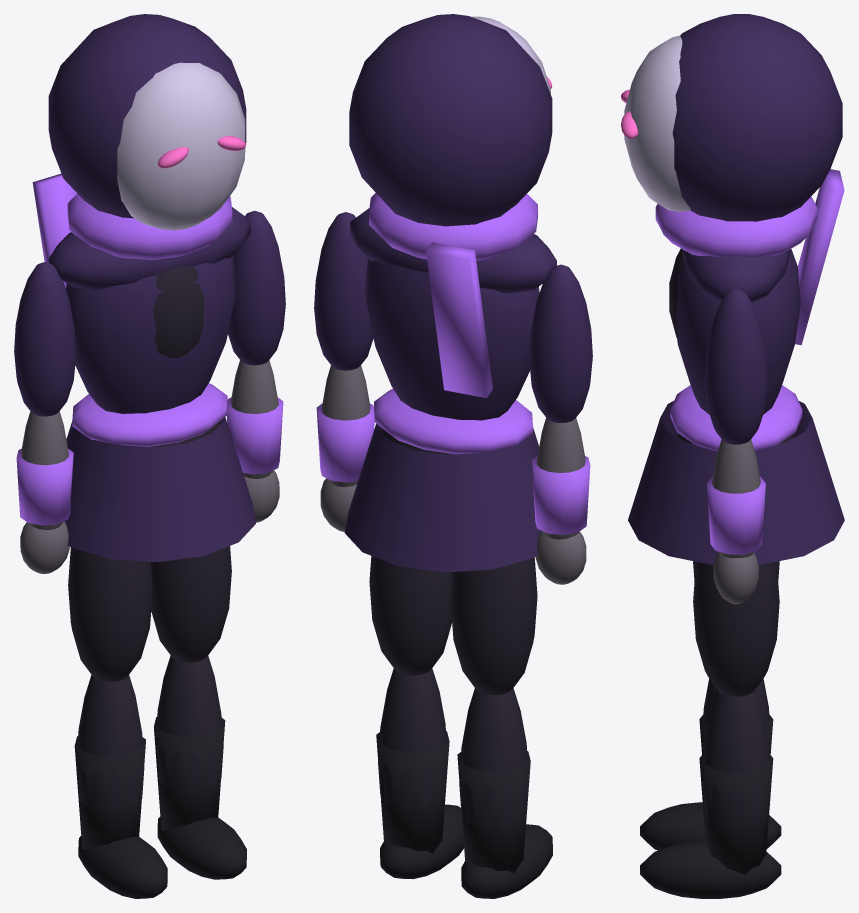
Rendered from ashen_caster.glb.
The picture shows the model from 3 angles, left to right: view 1: azimuth 30°, elevation 25°; view 2: azimuth 150°, elevation 25°; view 3: azimuth 270°, elevation 25°; orthographic projection. The views are drawn at different scales.
Parts seen in each view (by area): view 1: Head, Torso, Hips, LowerLegR, LowerLegL, UpperLegR, UpperArmR, LowerArmR, UpperLegL, UpperArmL, LowerArmL; view 2: Head, Torso, Hips, LowerLegR, LowerLegL, UpperLegR, UpperArmR, LowerArmR, UpperLegL, UpperArmL, LowerArmL; view 3: Head, Hips, Torso, LowerLegL, UpperLegL, UpperArmL, LowerArmL, LowerLegR.
Part boxes in pixels (<box>): Head: <box>48,14,246,230</box>; Torso: <box>32,173,250,413</box>; Hips: <box>64,383,255,561</box>; LowerLegR: <box>74,675,167,898</box>; LowerLegL: <box>154,655,246,879</box>; UpperLegR: <box>68,547,152,681</box>; UpperArmR: <box>14,262,76,416</box>; LowerArmR: <box>16,411,73,573</box>; UpperLegL: <box>150,546,231,662</box>; UpperArmL: <box>228,210,285,365</box>; LowerArmL: <box>226,360,283,522</box>; Head: <box>349,14,552,226</box>; Torso: <box>350,193,556,420</box>; Hips: <box>344,389,541,572</box>; LowerLegR: <box>457,688,552,898</box>; LowerLegL: <box>376,668,463,878</box>; UpperLegR: <box>450,557,537,695</box>; UpperArmR: <box>529,264,592,422</box>; LowerArmR: <box>531,418,590,584</box>; UpperLegL: <box>369,556,452,675</box>; UpperArmL: <box>314,212,373,370</box>; LowerArmL: <box>316,365,374,531</box>; Head: <box>621,14,842,221</box>; Hips: <box>628,385,844,564</box>; Torso: <box>655,169,844,414</box>; LowerLegL: <box>640,690,781,898</box>; UpperLegL: <box>693,561,779,696</box>; UpperArmL: <box>704,288,767,444</box>; LowerArmL: <box>707,439,765,604</box>; LowerLegR: <box>640,678,781,850</box>.
Size of the model in its own units: 0.5976 by 1.84 by 0.4362.
